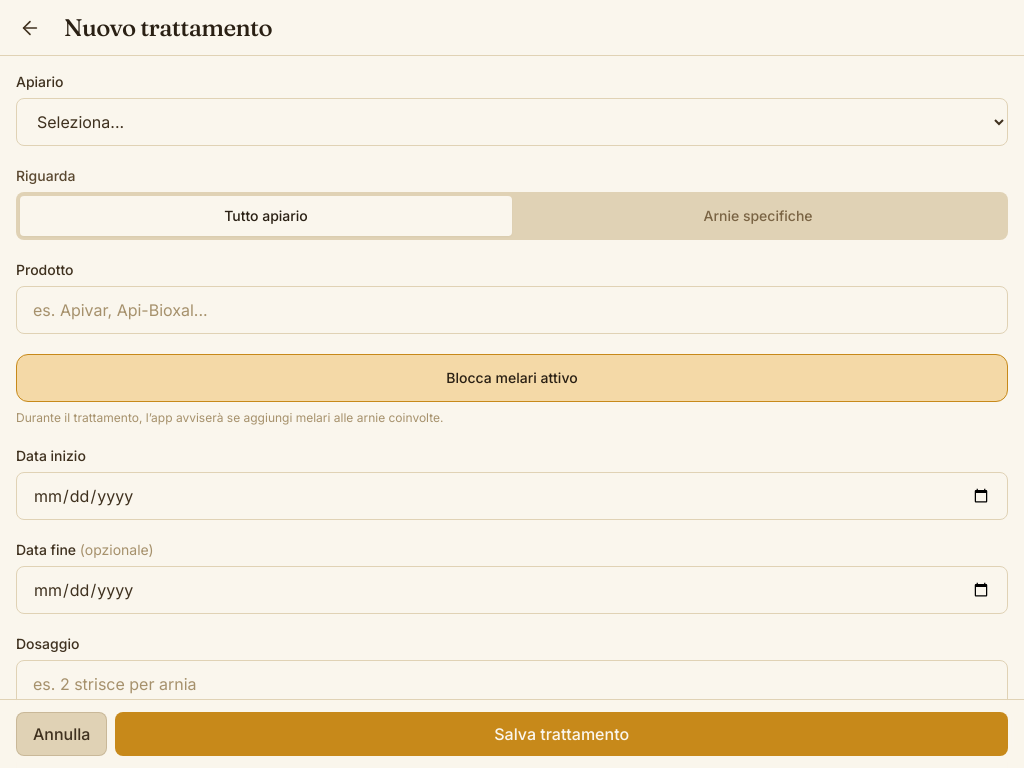
Scenario: TreatmentForm — scope and hive selection › shows hive buttons when scope is "specific"
The width and height of the screenshot is (1024, 768).
Select "Apiario Monte" in the dropdown labelled "Apiario": (512, 122) [16, 98, 1008, 146]
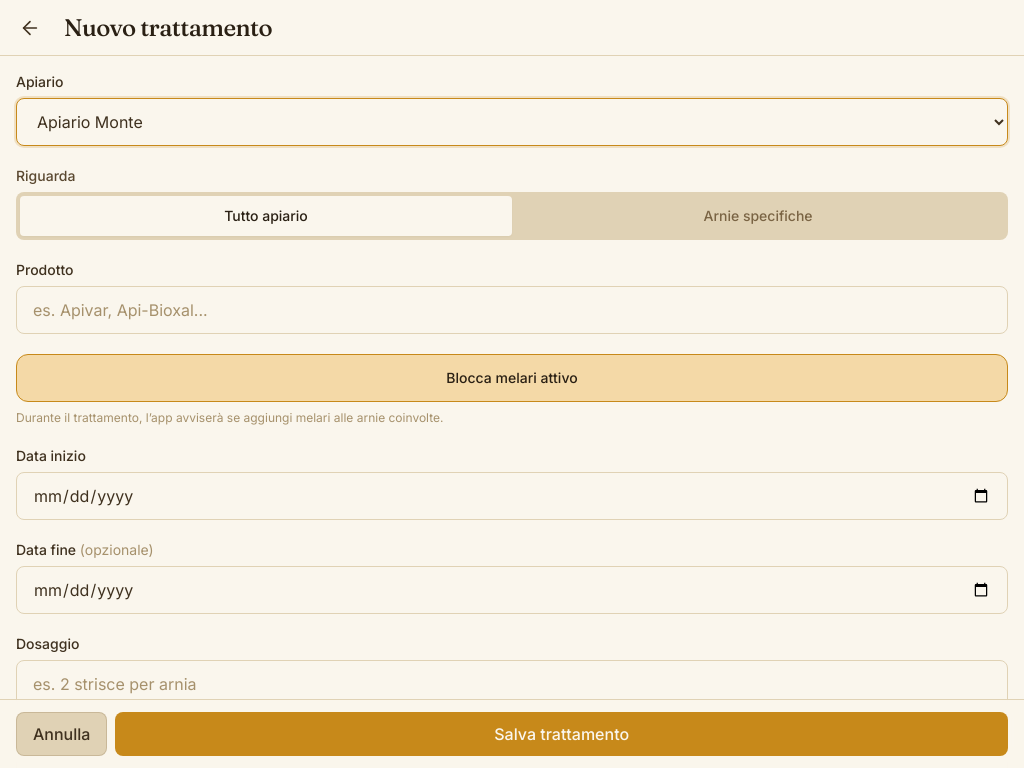
Click the radio button "Arnie specifiche": (758, 216) [512, 196, 1004, 236]
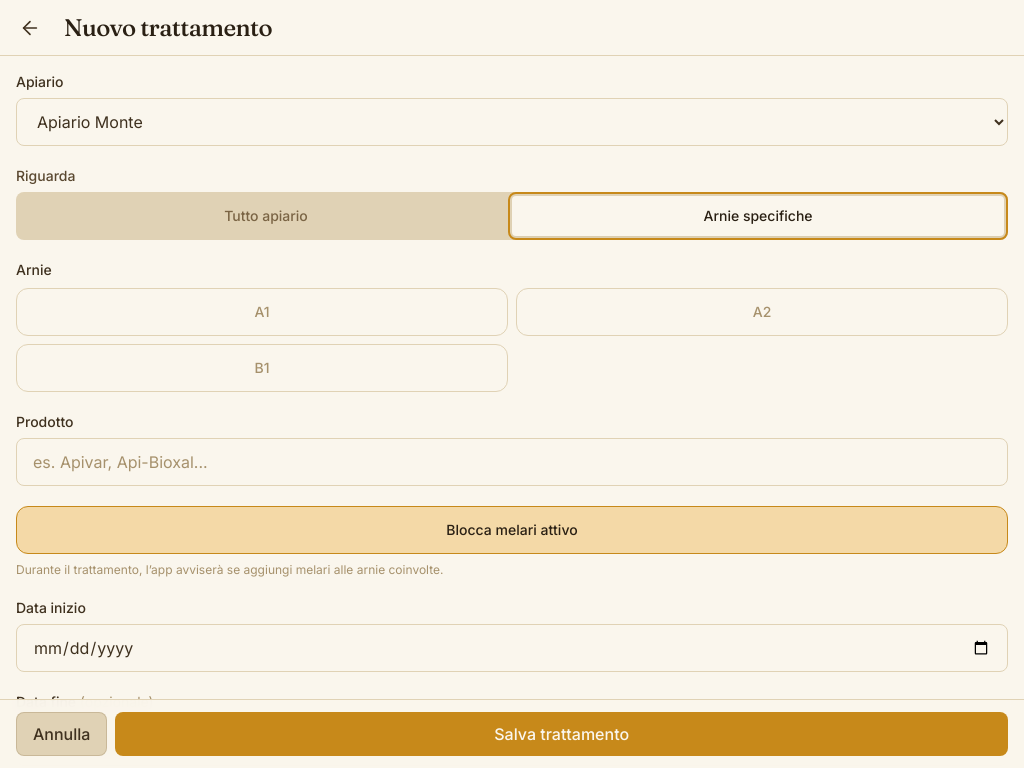
Now the text "Arnie" is shown, box [16, 261, 52, 278]
Now the button "A1" is shown, box [16, 288, 508, 336]
Now the button "A2" is shown, box [516, 288, 1008, 336]
